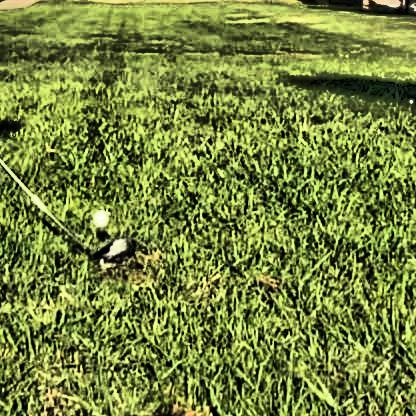golfball: (89, 207, 108, 224)
